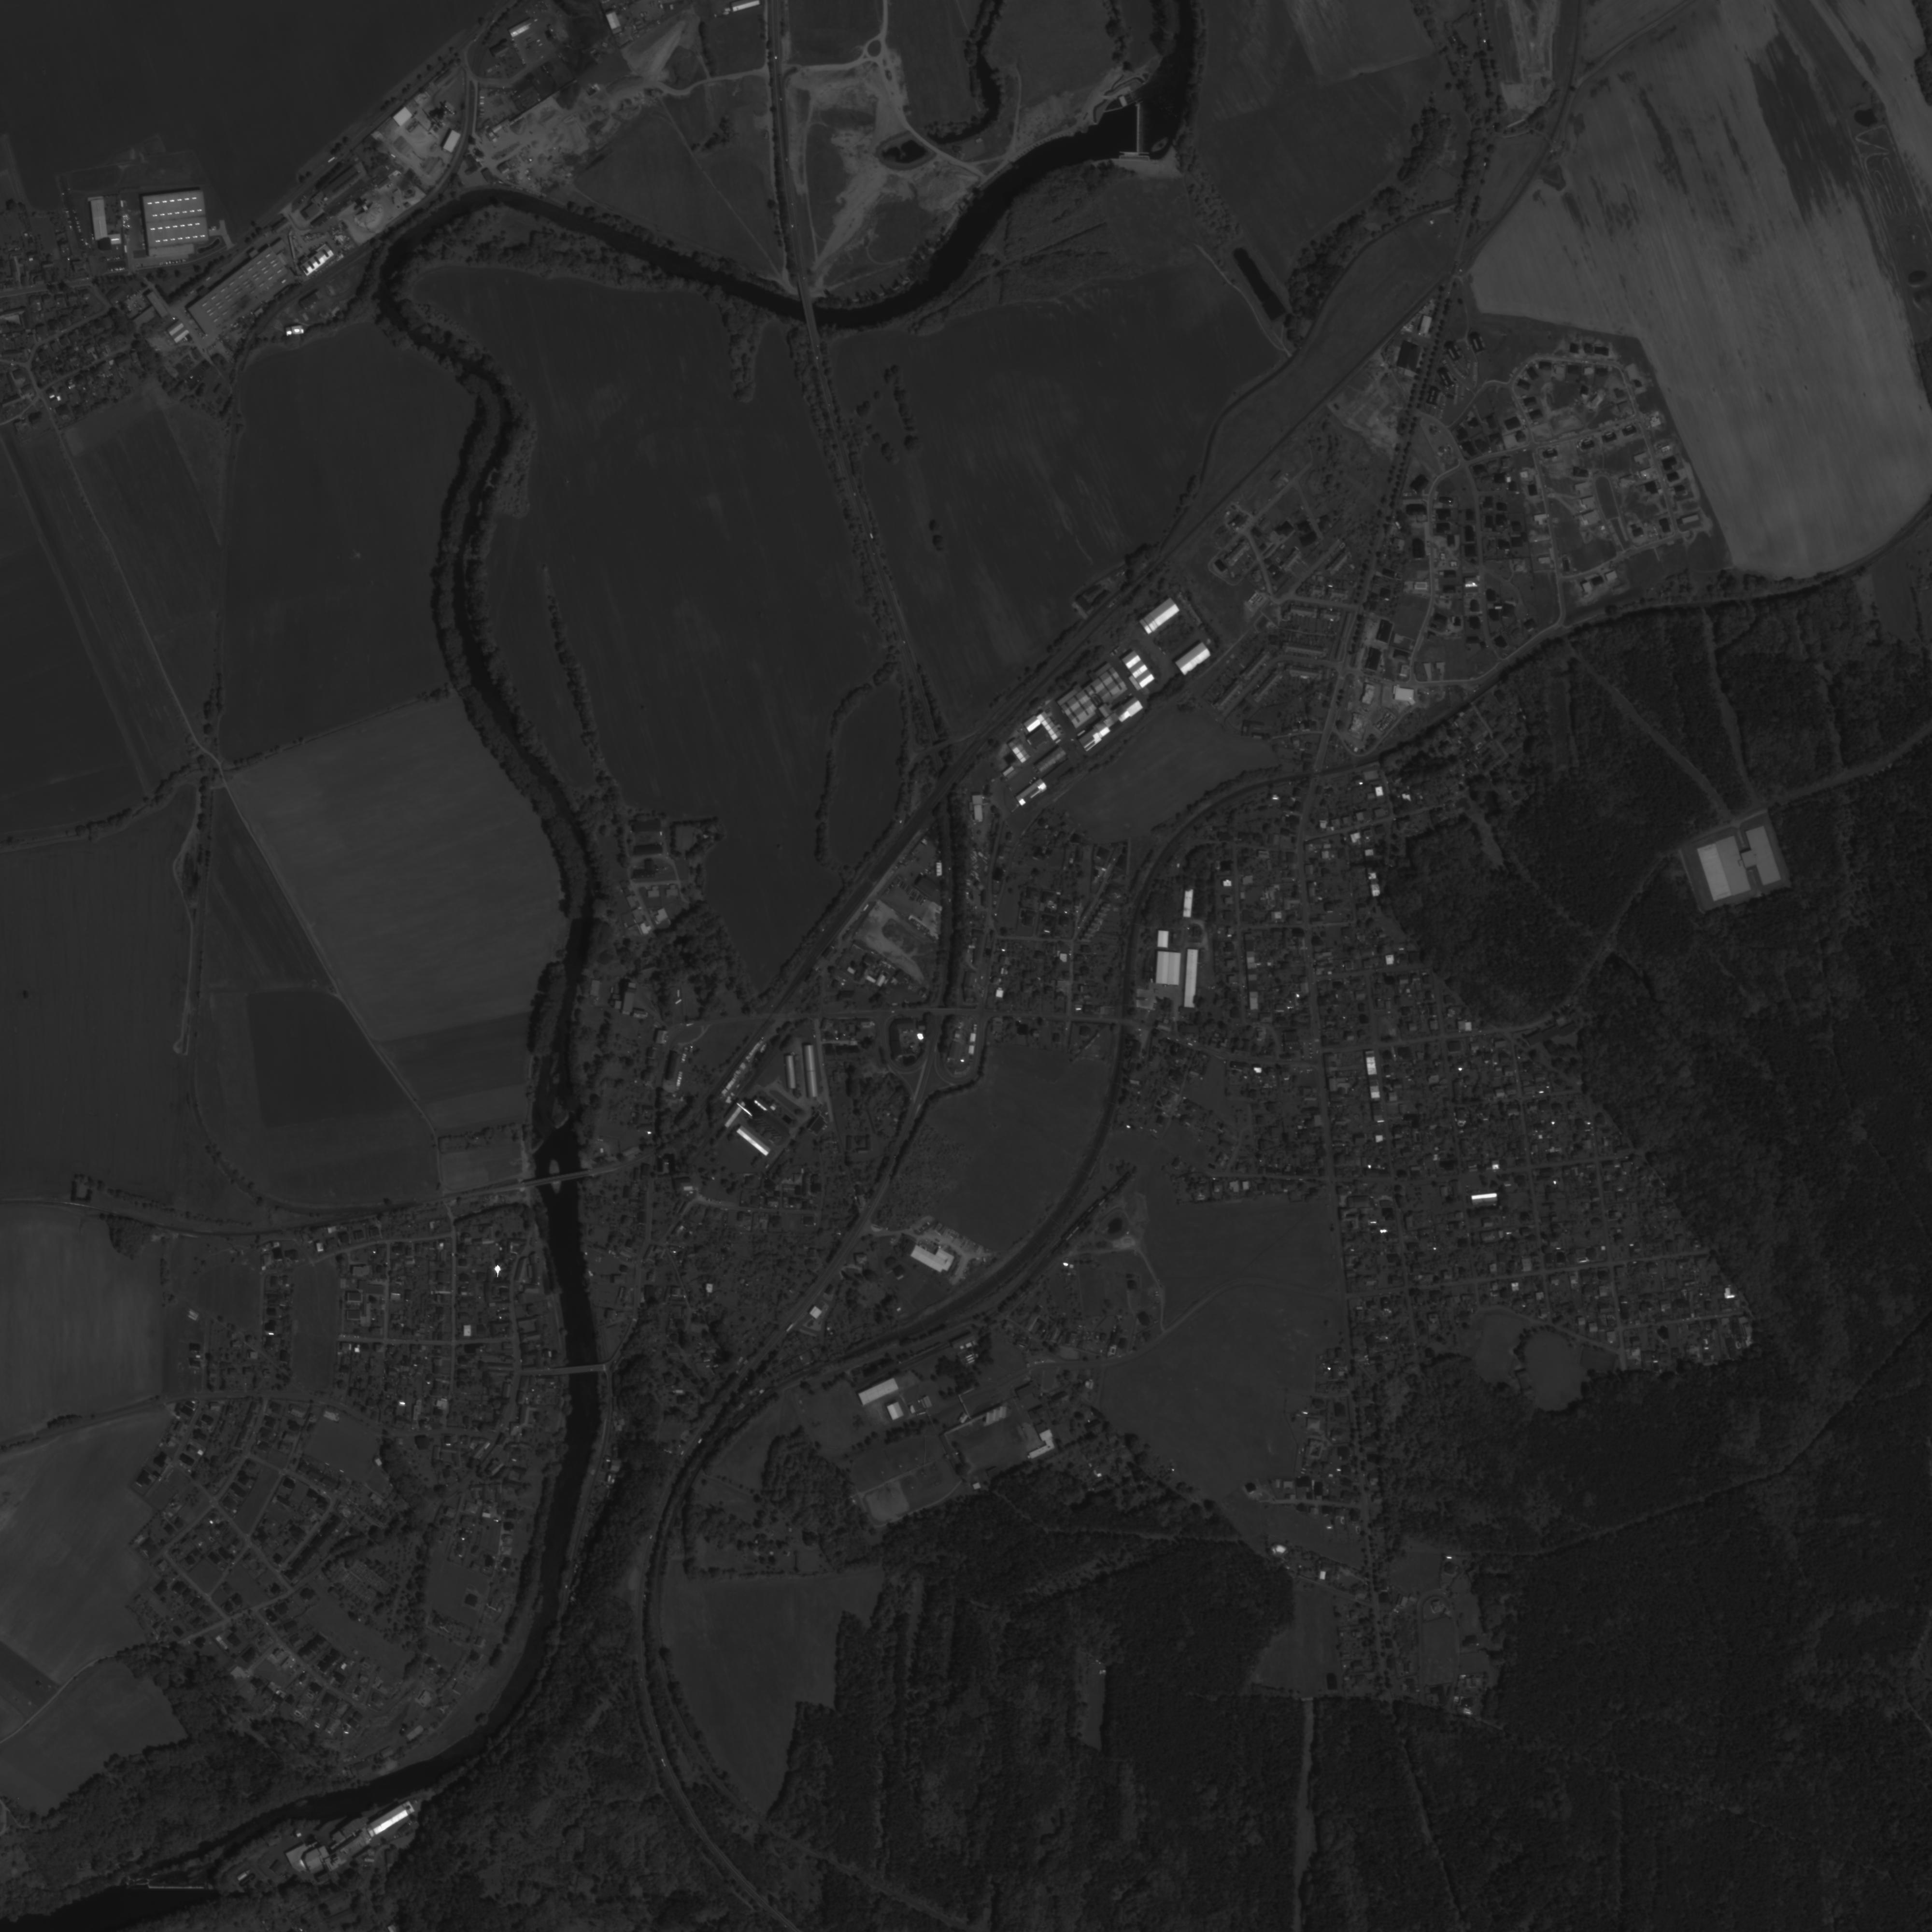harbor: (1132, 101, 1146, 156)
